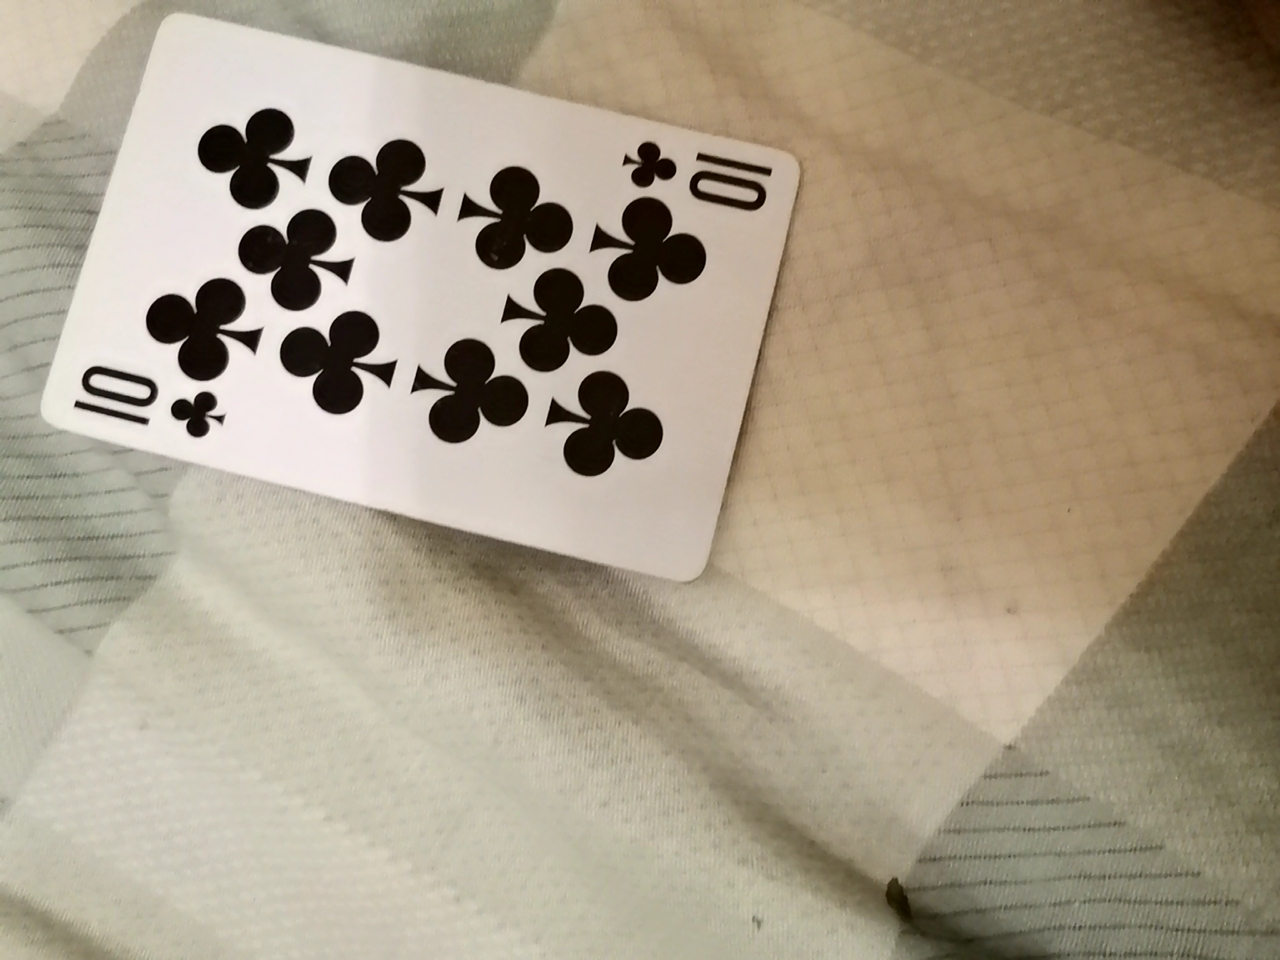mh 10: (61, 15, 812, 597)
